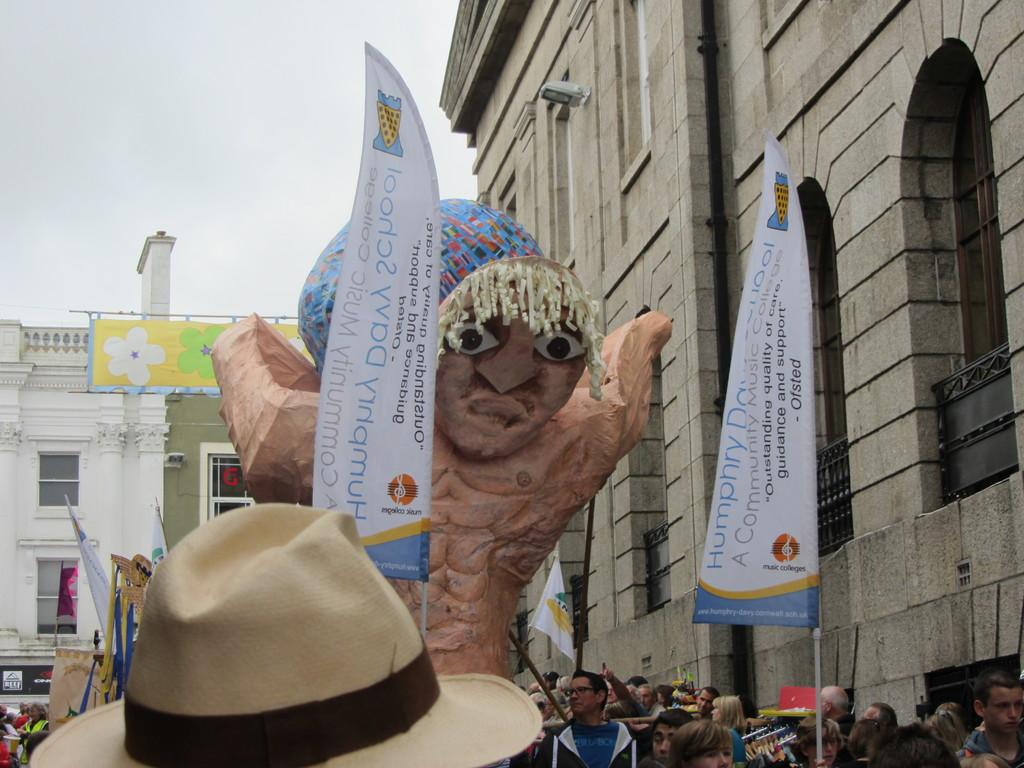Hat: (30, 500, 544, 767)
